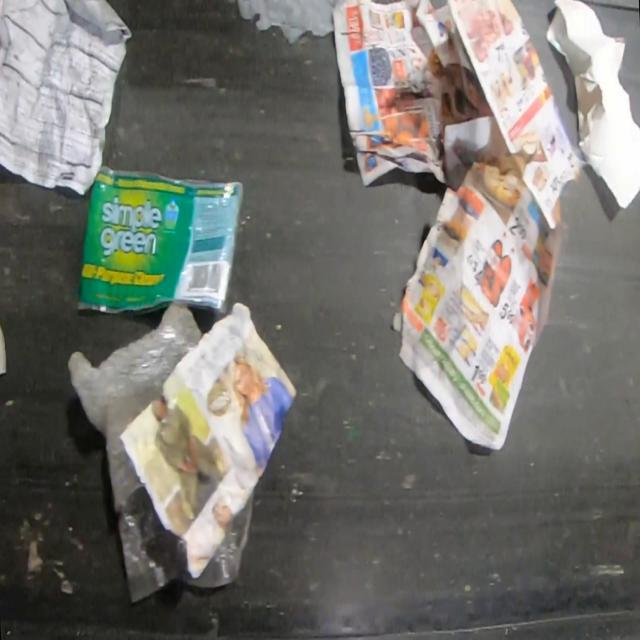soft_plastic: (68, 306, 254, 604), (74, 163, 248, 317)
